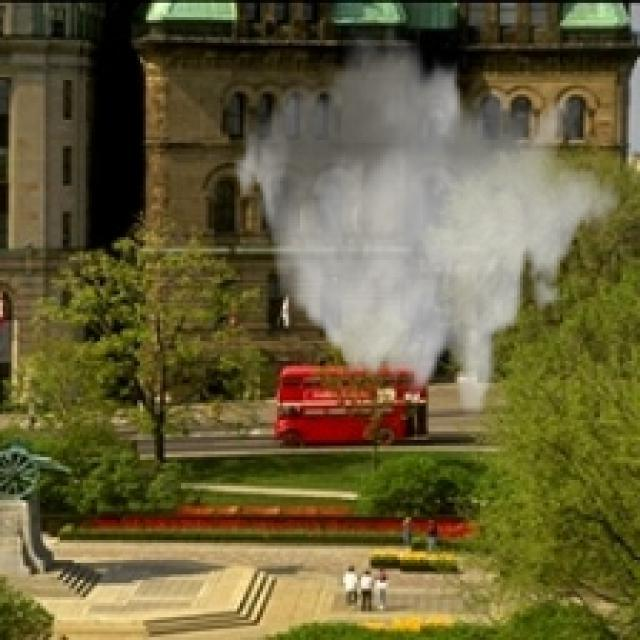Smoke: (231, 20, 623, 423)
